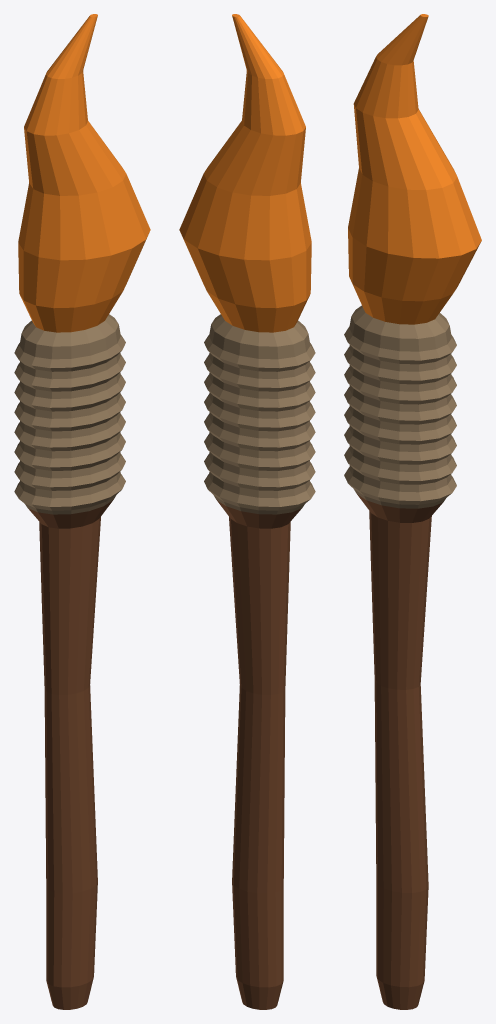
Rendered from NEW_RECOVERY_072_LOD0.glb.
3 views of the same model, side by side, from view 1: azimuth 30°, elevation 25°; view 2: azimuth 150°, elevation 25°; view 3: azimuth 330°, elevation 25° (orthographic).
Visible parts, largest first — view 1: Handheld_Torch; view 2: Handheld_Torch; view 3: Handheld_Torch.
Part boxes in pixels (x1,y1,x2,y2): Handheld_Torch: (14, 14, 150, 1009); Handheld_Torch: (179, 14, 315, 1009); Handheld_Torch: (344, 14, 481, 1009).
Bounding box in the file's own units: 0.133 × 0.99 × 0.0973.
